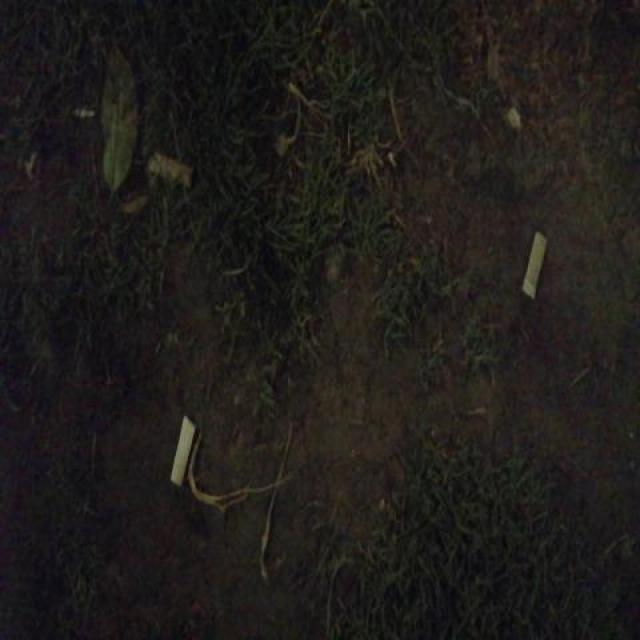non-organic waste: (167, 410, 201, 490), (142, 145, 198, 191), (519, 224, 552, 301)
